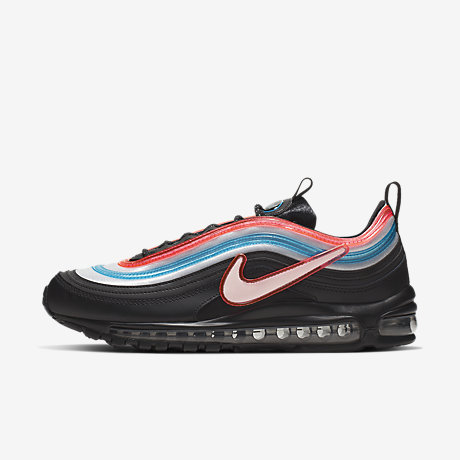nike: (219, 243, 353, 309)
